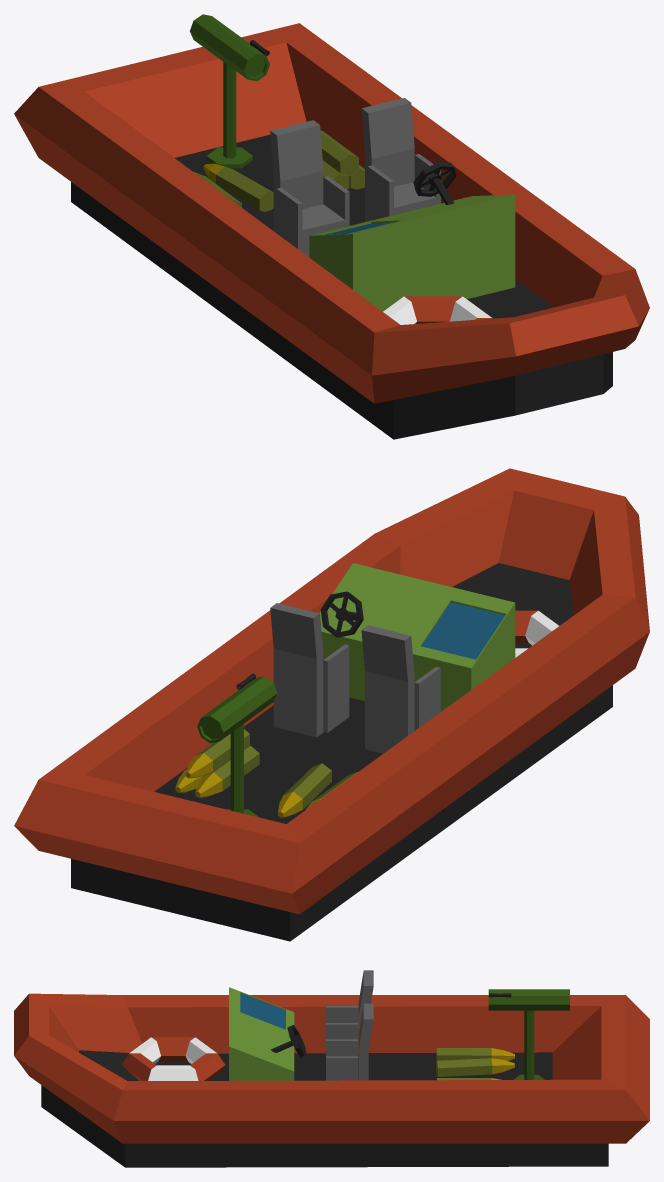
File: scene_8zFzu6M4OB.glb
3 renders of one model, top to bottom at view 1: azimuth 30°, elevation 25°; view 2: azimuth 150°, elevation 25°; view 3: azimuth 270°, elevation 25°, orthographic. The views are drawn at different scales.
Visible parts, largest first — view 1: Boat; view 2: Boat; view 3: Boat.
Part boxes in pixels (x1=…): Boat: x1=14, y1=14, x2=649, y2=439; Boat: x1=14, y1=468, x2=649, y2=941; Boat: x1=14, y1=970, x2=649, y2=1167.
Size of the model in its own units: 10.01 by 6.29 by 26.46.
